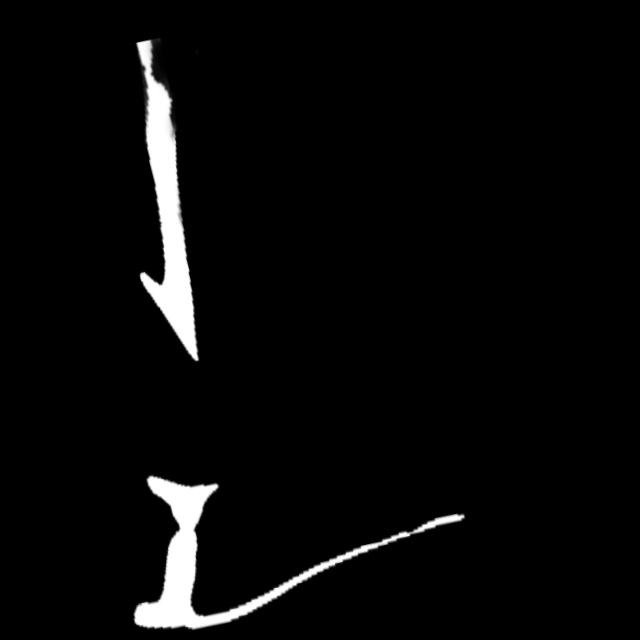sl: (125, 34, 182, 132)
